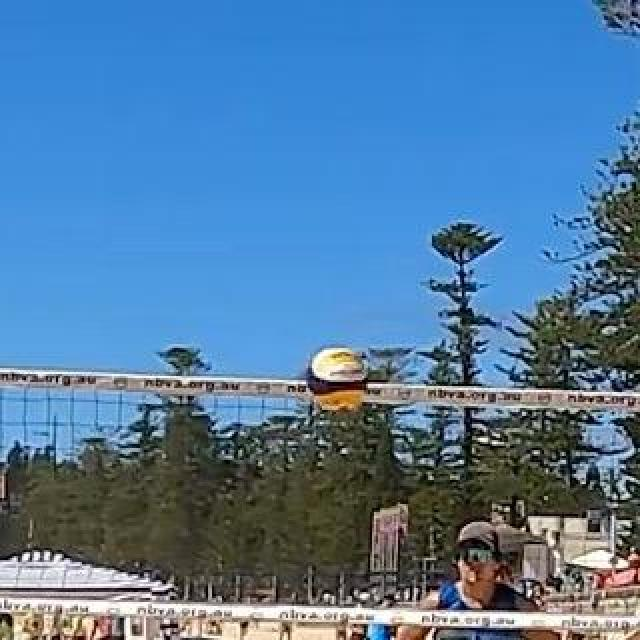volleyball: (306, 348, 366, 408)
